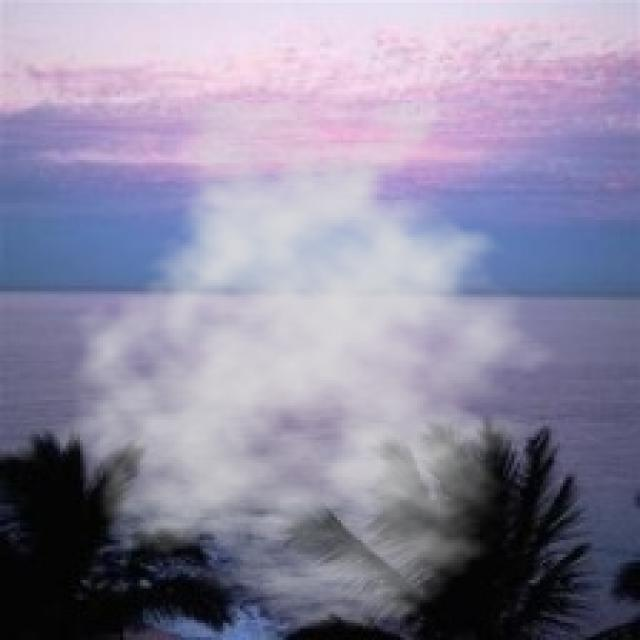smoke: (51, 103, 583, 631)
